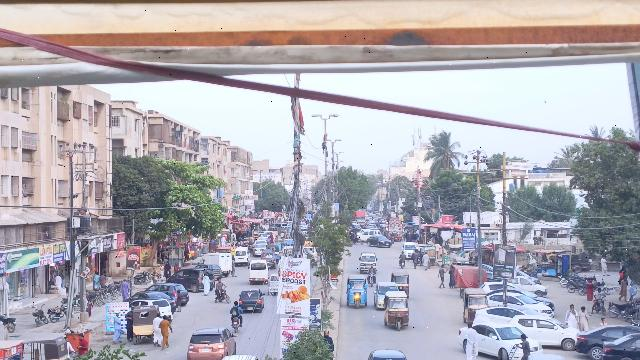Bike: (230, 316, 245, 333), (214, 289, 230, 304), (366, 272, 377, 288)
Car: (458, 320, 538, 357), (186, 328, 240, 360), (169, 267, 203, 292), (238, 289, 264, 312), (372, 282, 390, 309), (267, 274, 279, 295)
Person: (462, 320, 480, 360), (512, 329, 531, 360), (158, 314, 173, 350), (563, 301, 579, 329), (112, 310, 124, 345), (150, 312, 162, 347), (579, 304, 590, 331), (201, 271, 211, 297), (230, 300, 243, 317), (119, 277, 130, 297), (367, 261, 377, 278), (216, 277, 225, 294)
Rickshaw: (383, 291, 410, 332), (132, 305, 159, 344), (461, 287, 489, 321), (345, 275, 369, 310), (390, 270, 411, 297)
Suzuki: (358, 252, 378, 274)
Truck: (204, 251, 232, 275)
Van: (246, 260, 270, 285)
